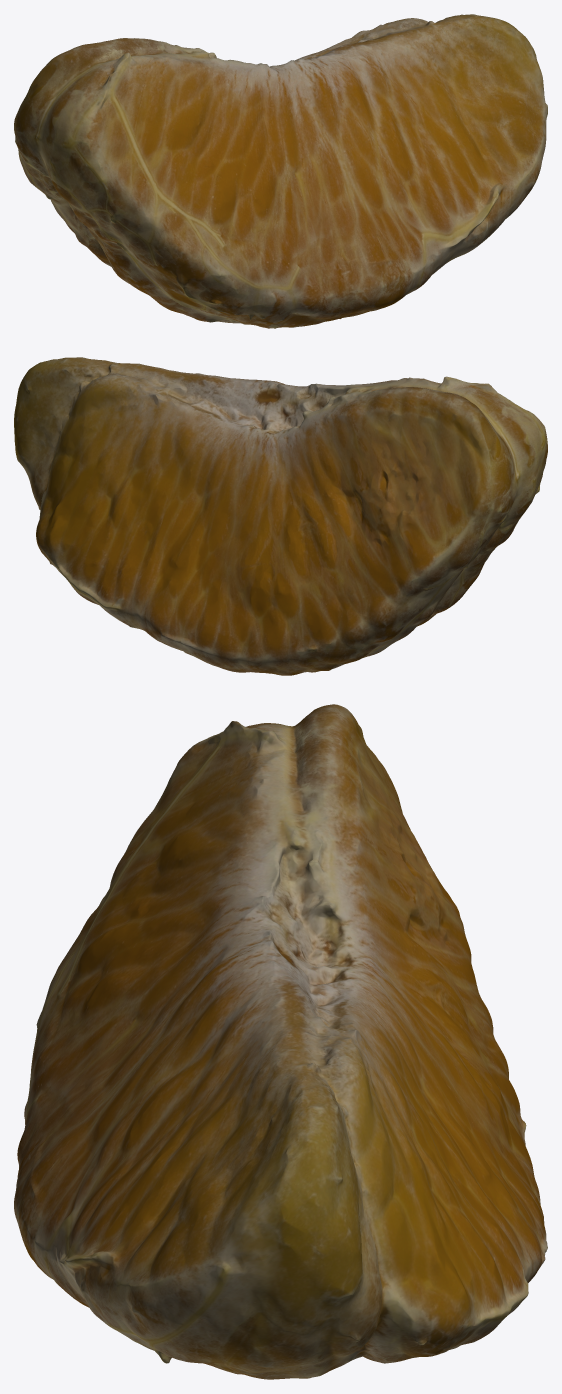
The model's file is orange_slice_free.glb.
The picture shows the model from 3 angles, top to bottom: view 1: azimuth 30°, elevation 25°; view 2: azimuth 150°, elevation 25°; view 3: azimuth 270°, elevation 25°; orthographic projection. The views are drawn at different scales.
Parts seen in each view (by area): view 1: Object_2; view 2: Object_2; view 3: Object_2.
Part boxes in pixels (<box>): Object_2: <box>14,14,547,328</box>; Object_2: <box>14,357,547,675</box>; Object_2: <box>14,704,547,1379</box>.
Size of the model in its own units: 0.0679 by 0.0374 by 0.0398.
Materials: 1 (1 with a texture image).
